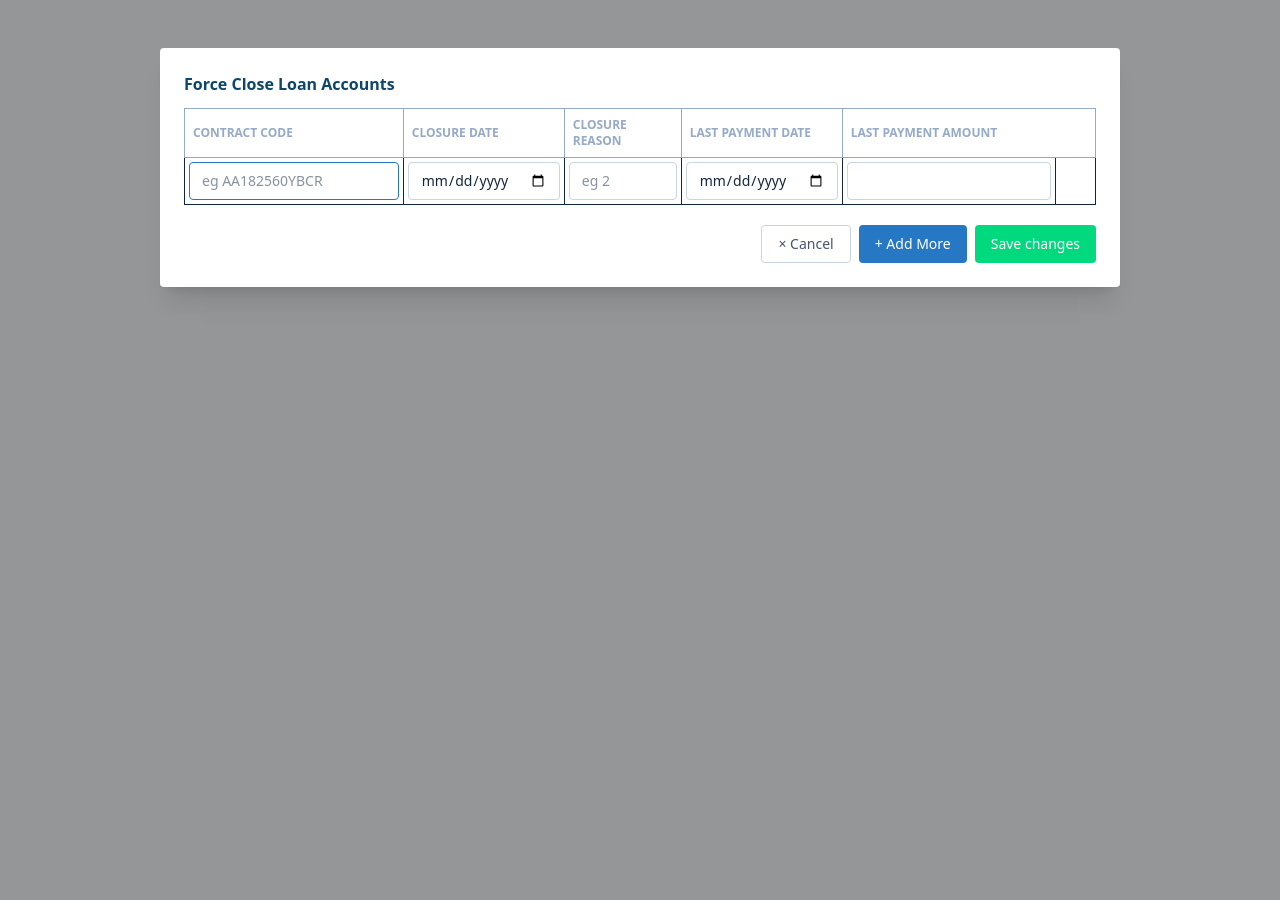
Test: ForceCloseDialog › starts with one row, adds rows and removes any row but the first
Click the button "+ Add More". click: (913,244)
box: [859,225,967,263]
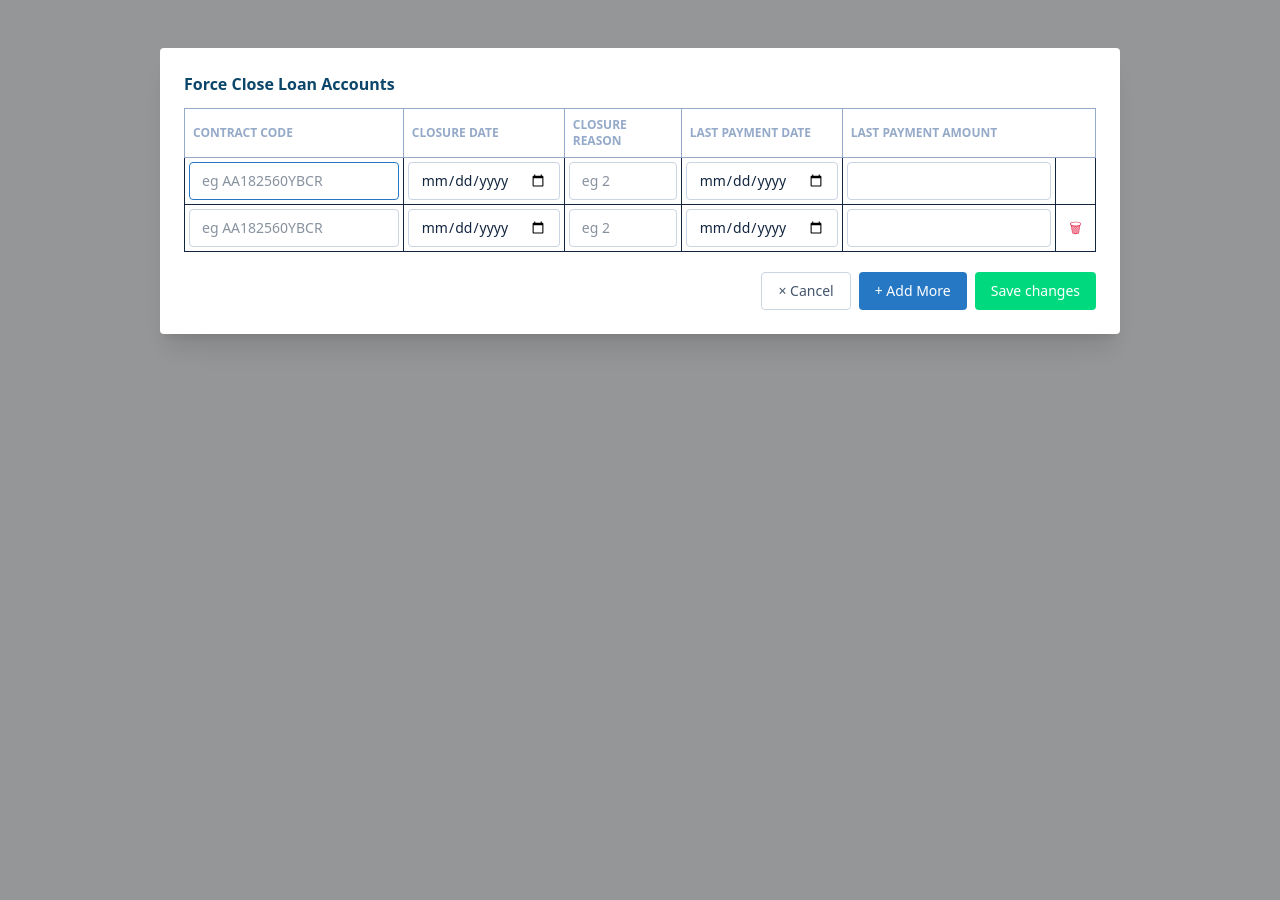
Click the button "+ Add More". click: (913,291)
box: [859,272,967,310]
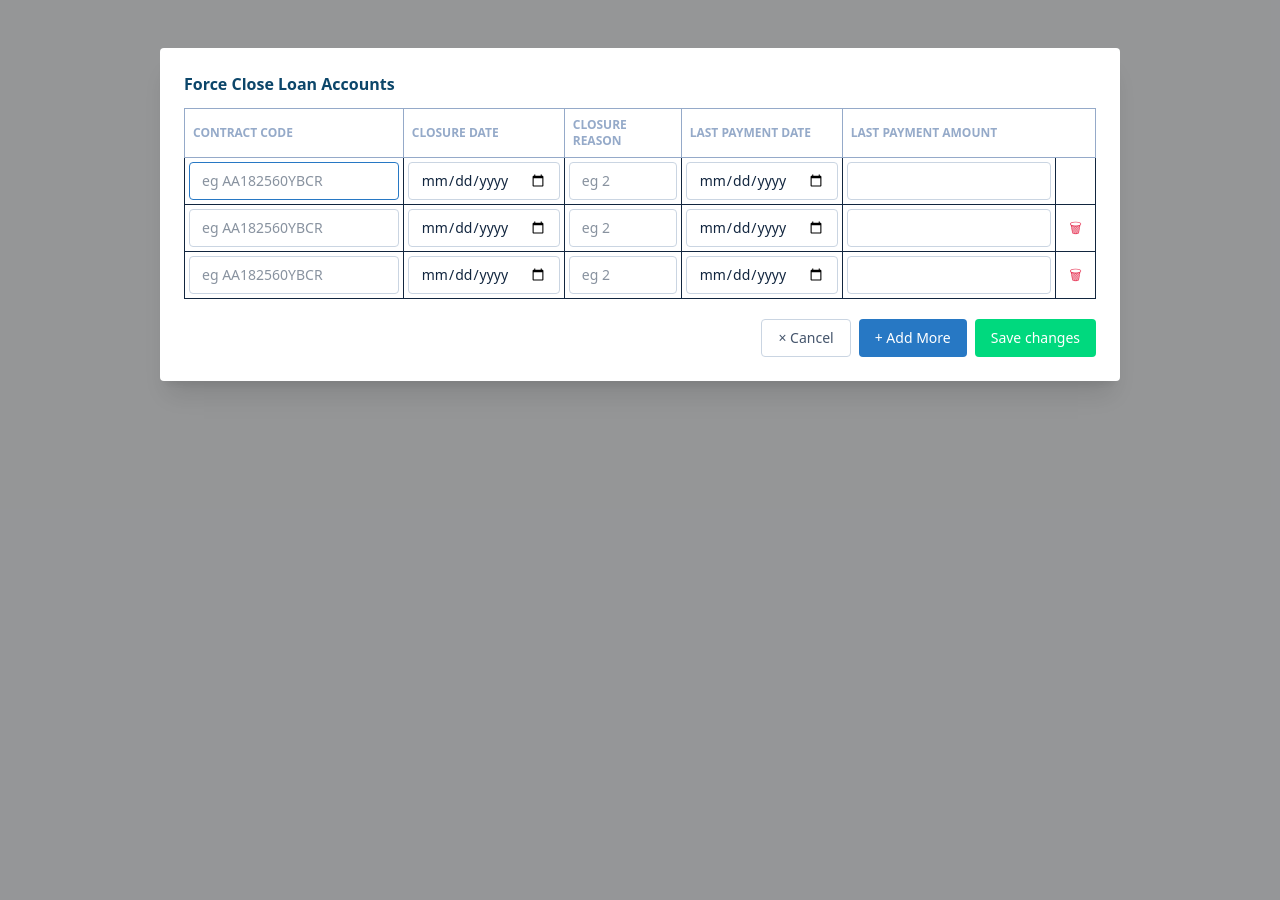
Type "AA2" into the 2nd field with placeholder "eg AA182560YBCR". click: (294,228)
box: [189,209,399,247]
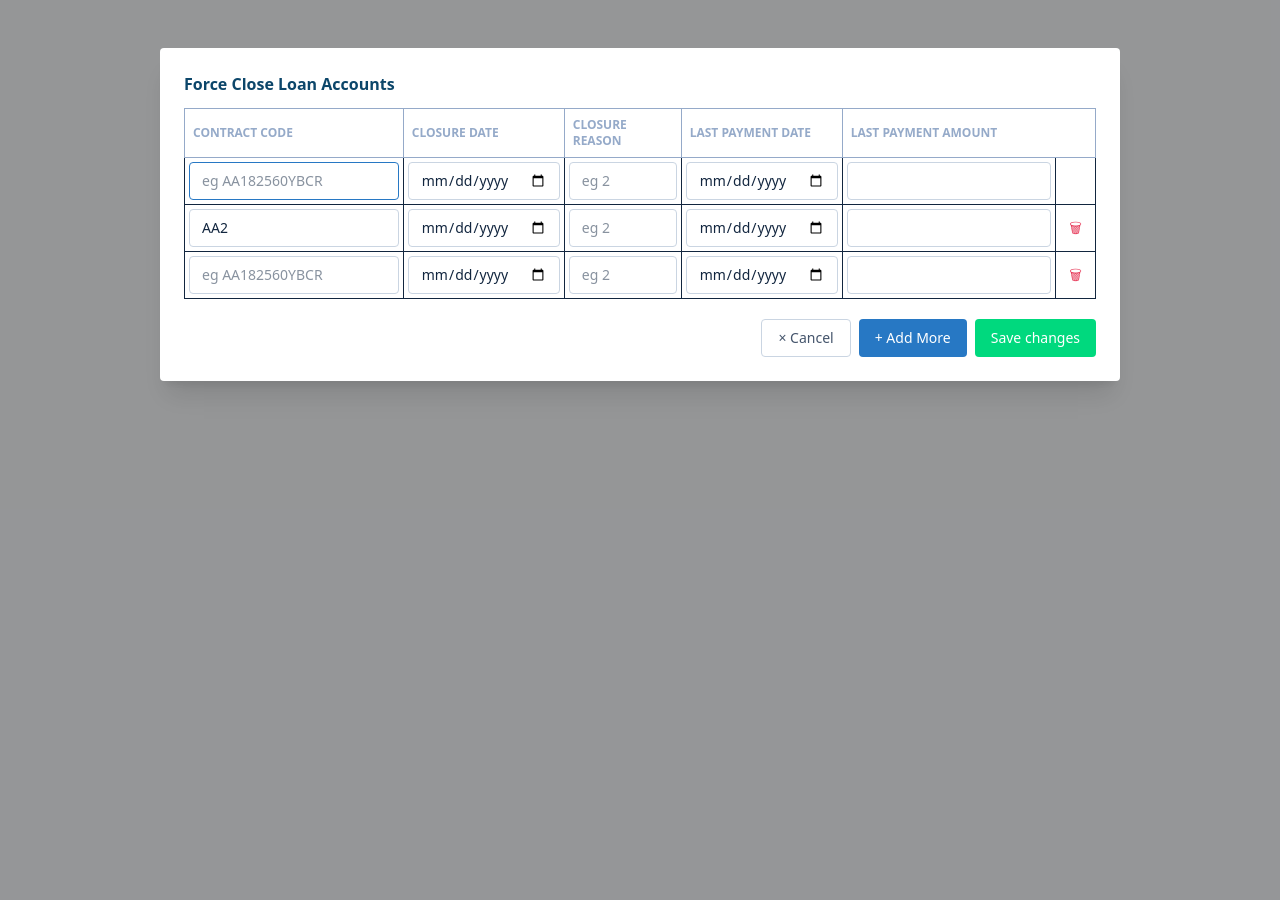
Type "AA3" into the 2nd field with placeholder "eg AA182560YBCR". click: (294,275)
box: [189,256,399,294]
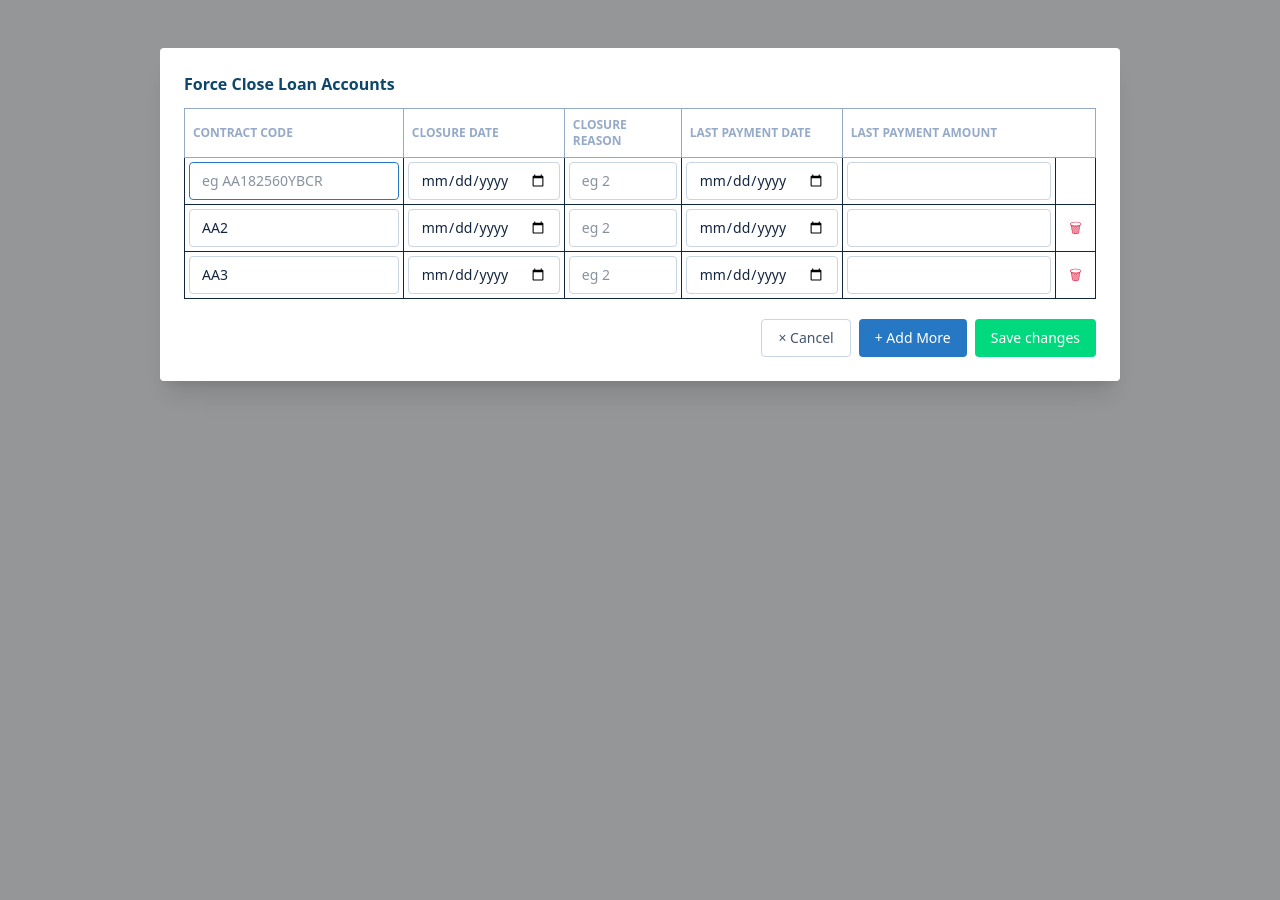
Click the 1st button "🗑". click: (1076,228)
box: [1069,218,1082,238]
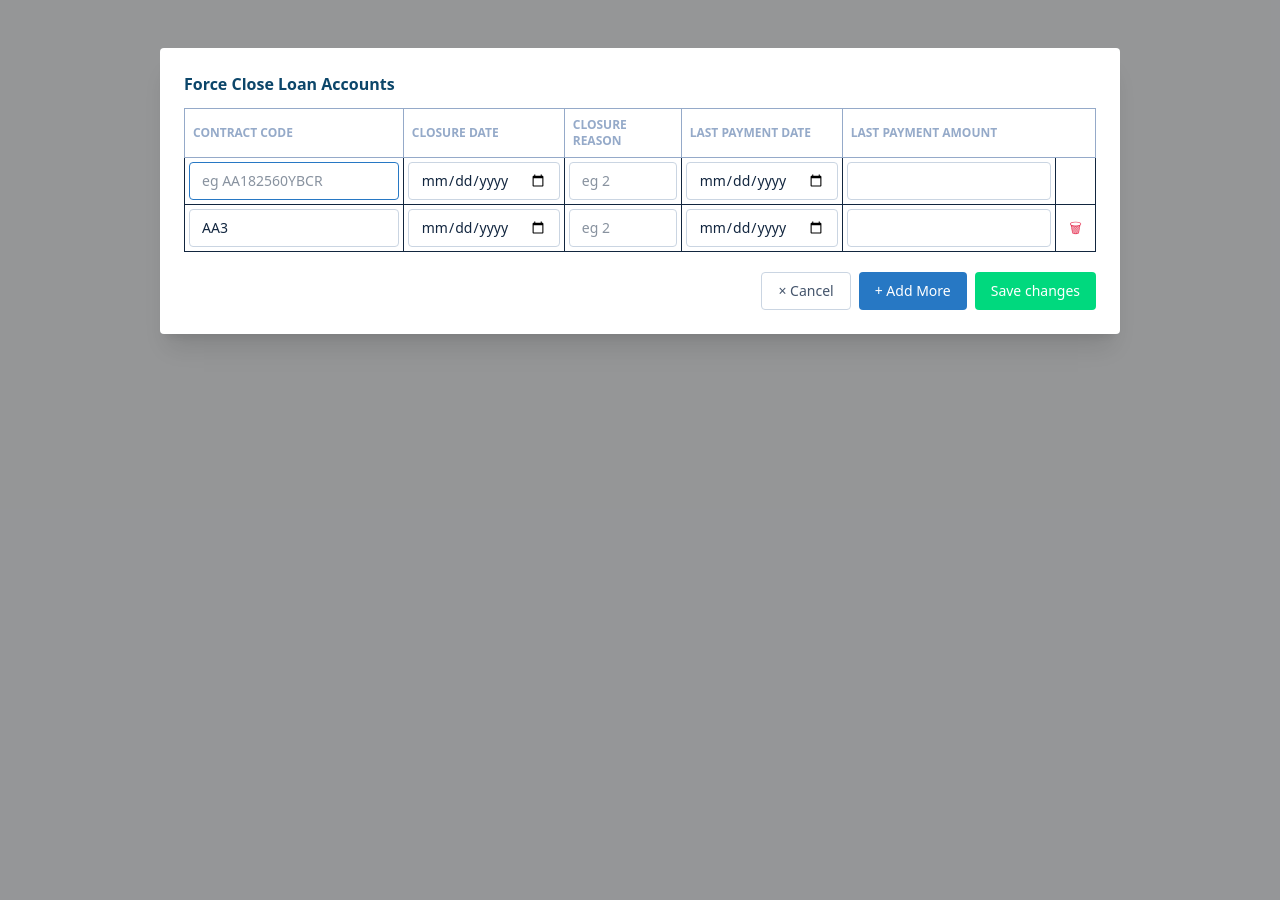
Expected: the field named "Contract code, row 2" holds "AA3", [189,209,399,247]
